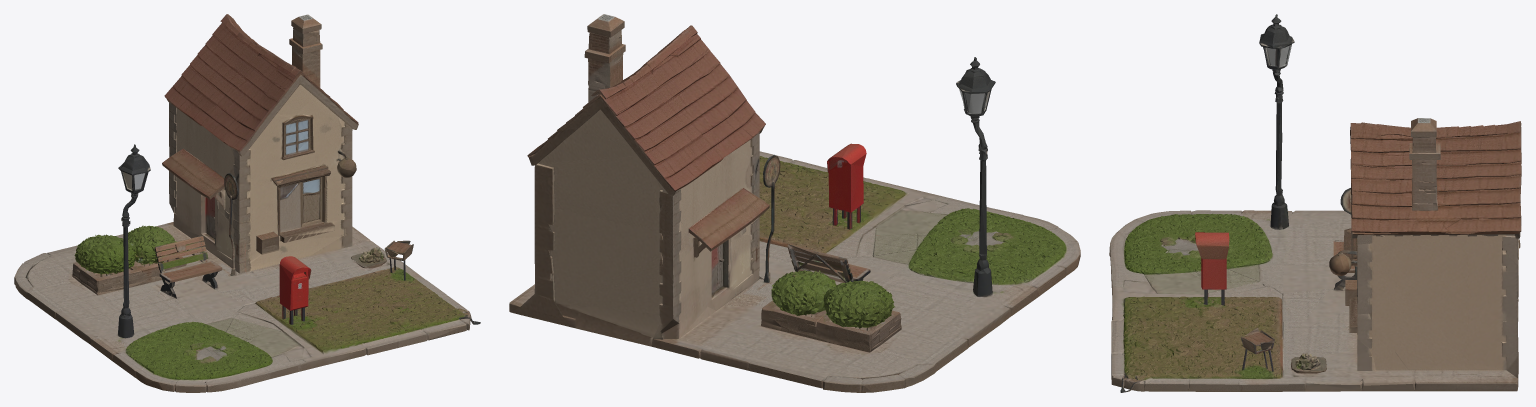
The model's file is a10_town_street.glb.
3 views of the same model, side by side, from view 1: azimuth 30°, elevation 25°; view 2: azimuth 150°, elevation 25°; view 3: azimuth 270°, elevation 25° (orthographic). The views are drawn at different scales.
Size of the model in its own units: 1.92 by 1.27 by 1.9.
Materials: 1 (1 with a texture image).
